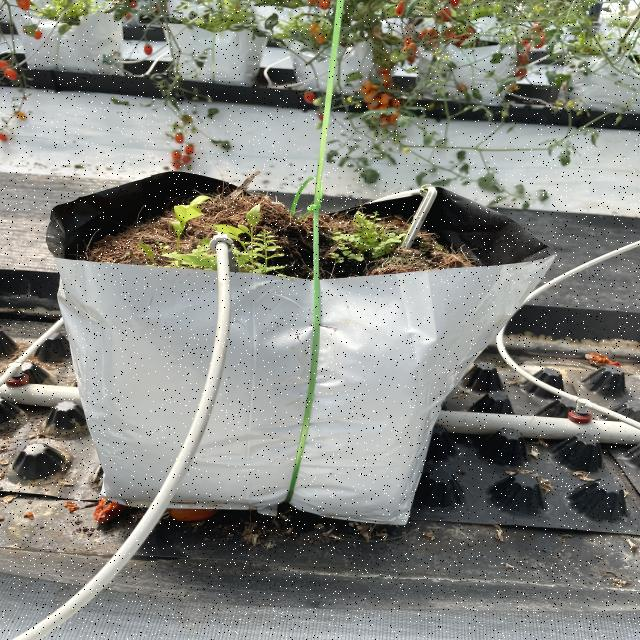Obstacle: (49, 235, 235, 626)
Soilbag: (56, 202, 556, 586)
